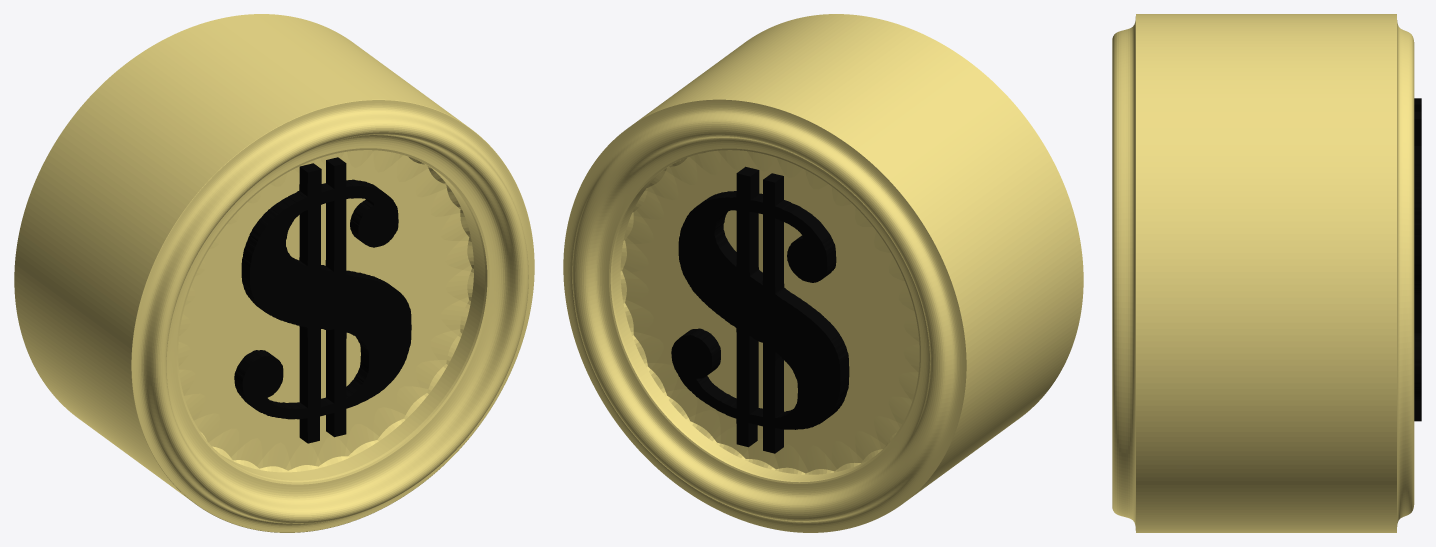
File: Coin.fbx
3 views of the same model, side by side, from view 1: azimuth 30°, elevation 25°; view 2: azimuth 150°, elevation 25°; view 3: azimuth 270°, elevation 25° (orthographic). The views are drawn at different scales.
Visible parts, largest first — view 1: Cylinder, Curve; view 2: Cylinder, Curve.001; view 3: Cylinder, Curve.001.
Boxes of the visible parts, bbox=[...] form: Cylinder: bbox=[14, 14, 534, 532]; Curve: bbox=[234, 157, 411, 443]; Cylinder: bbox=[563, 14, 1083, 532]; Curve.001: bbox=[671, 166, 849, 453]; Cylinder: bbox=[1112, 14, 1414, 532]; Curve.001: bbox=[1414, 98, 1421, 421].
Size of the model in its own units: 99.36 by 99.36 by 59.24.
